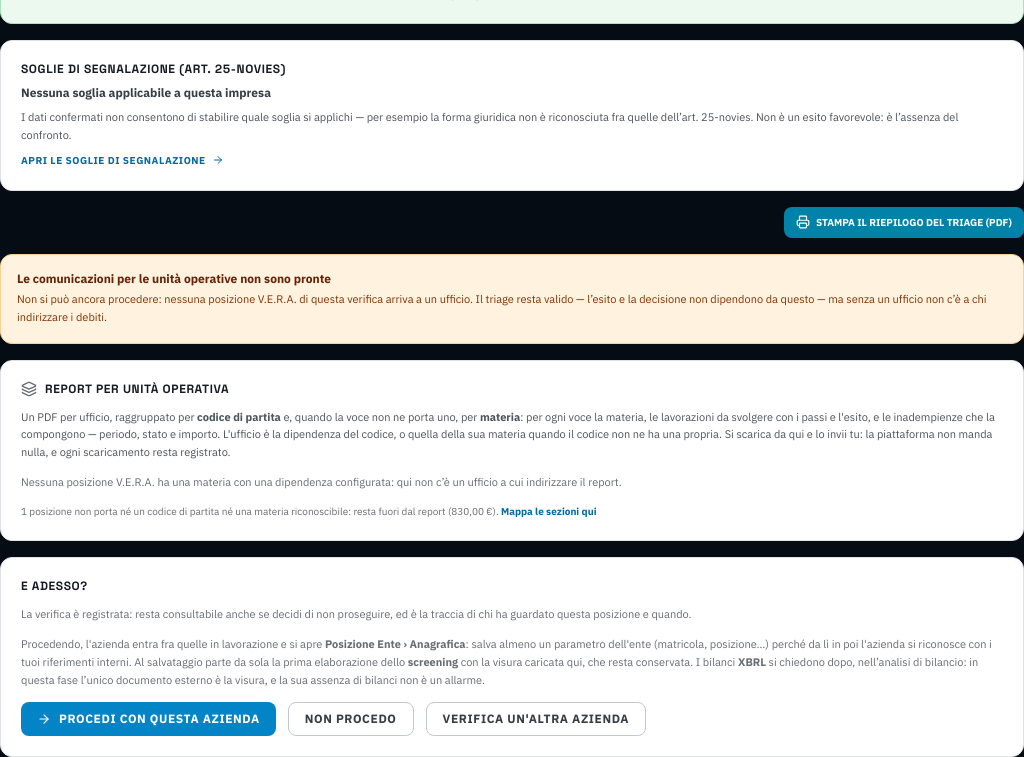
Scenario: Verifica salute azienda — riapertura da ?azienda= › le sezioni non mappate si mappano qui, e il report si compone subito
(page scrolled)
Expected: the text "Le comunicazioni per le unità operative non sono pronte" is shown, 17,271 -> 331,286
Click the button "Mappa le sezioni qui": (549, 512) 501,504 -> 596,520
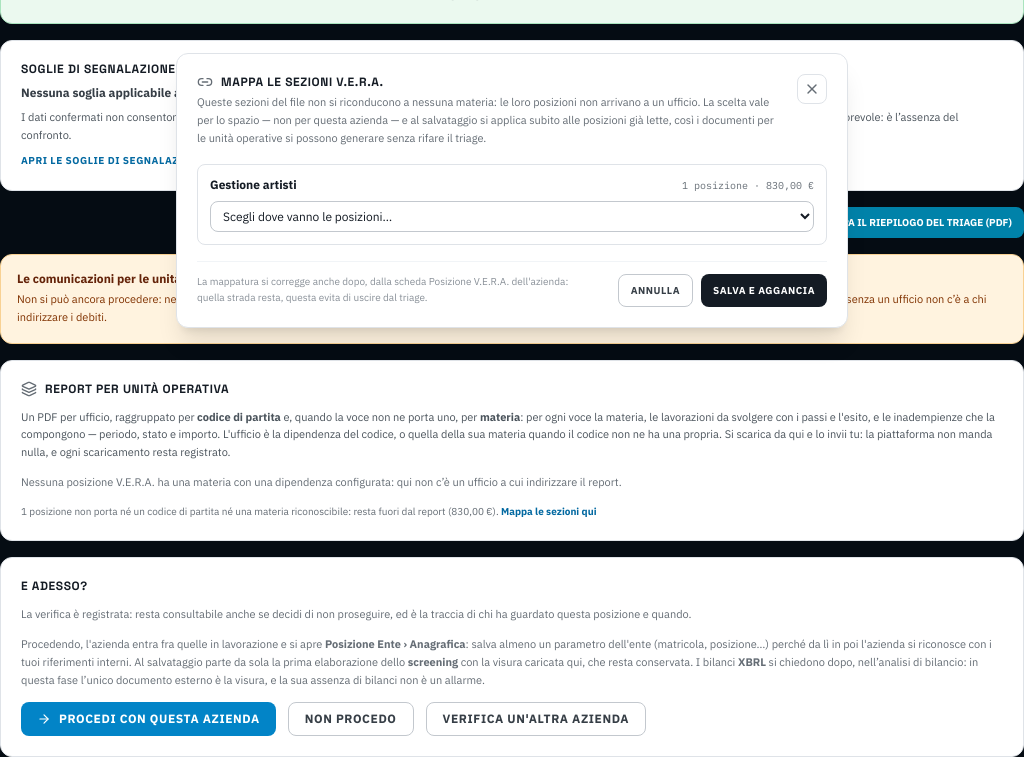
Select "Flussi Uniemens" in the dropdown named "Destinazione di Gestione artisti": (512, 216) 210,201 -> 814,232
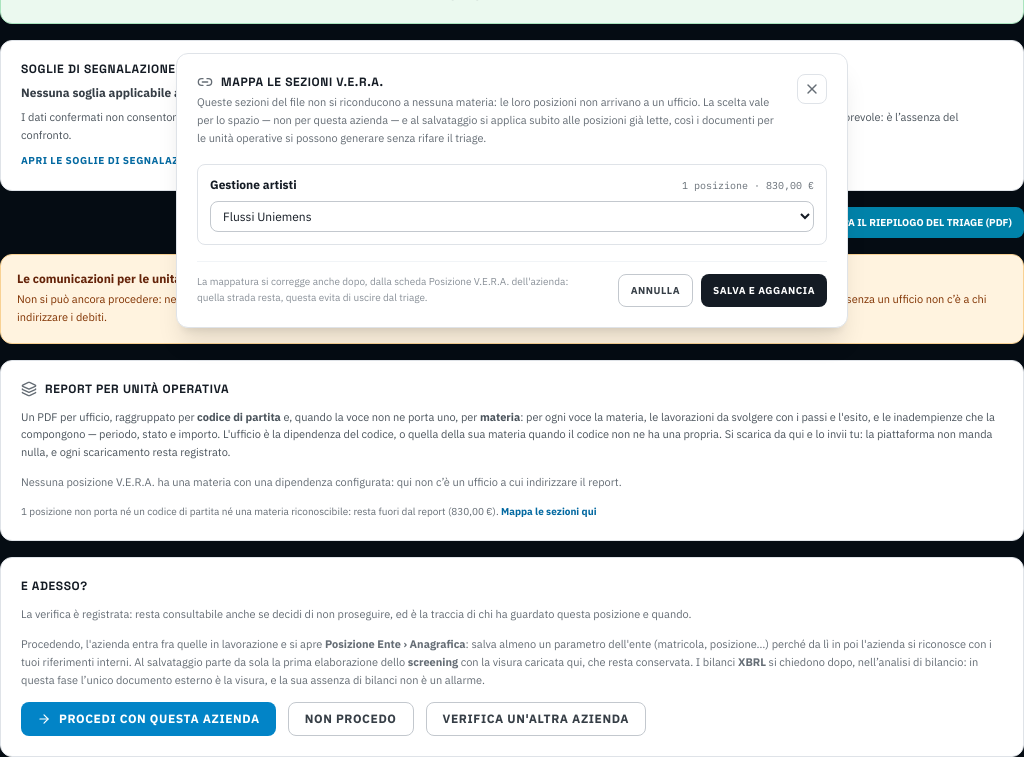
Click the button "Salva e aggancia": (764, 290) 701,274 -> 827,307
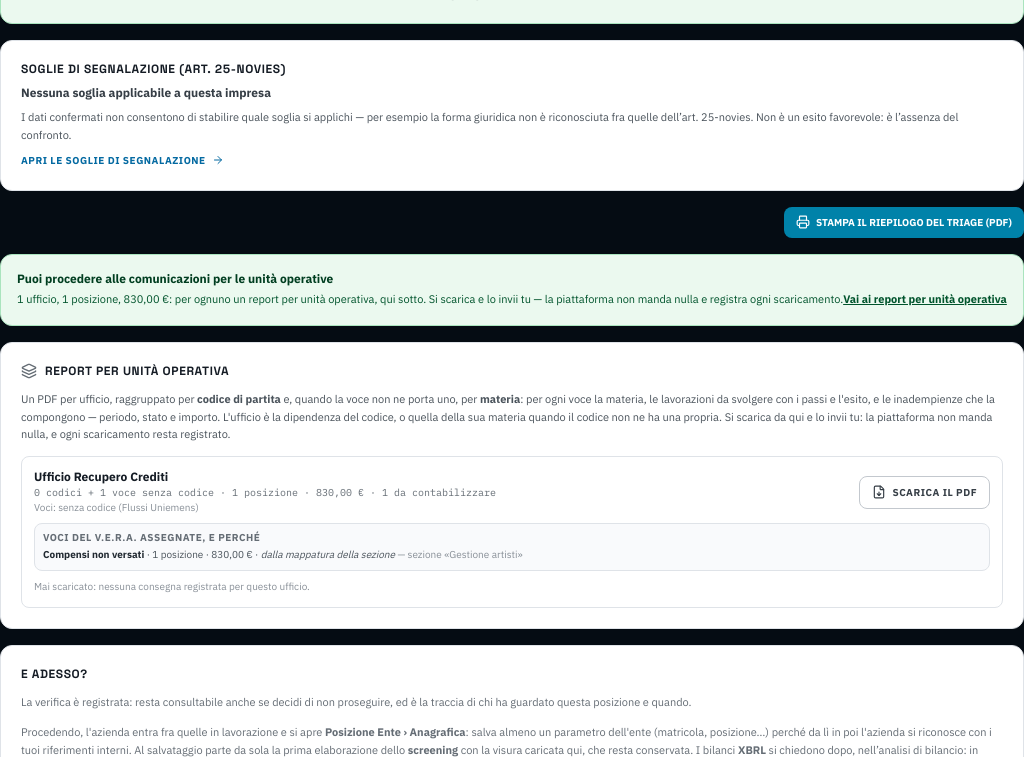
Now the dialog is gone
Now the text "Puoi procedere alle comunicazioni per le unità operative" is shown, box 17,271 -> 333,286
Now the text "Ufficio Recupero Crediti" is shown, box 34,469 -> 168,484
